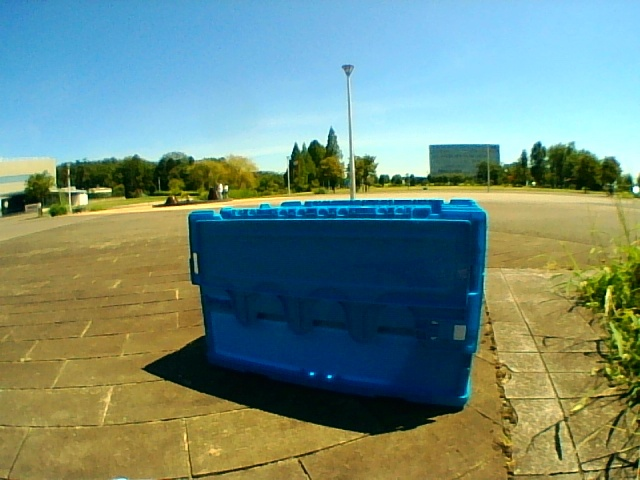blue_box: (212, 210, 479, 356)
